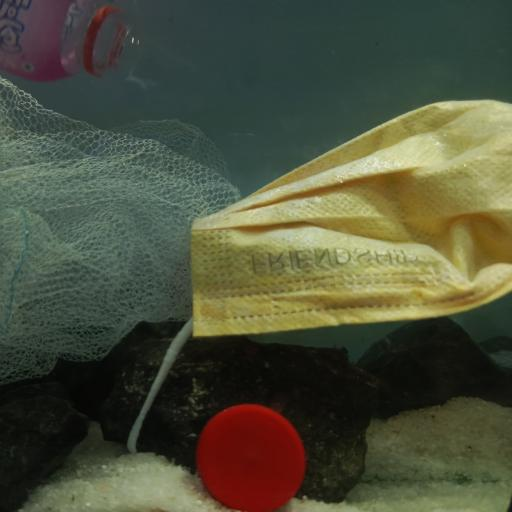bottle_cap: (196, 400, 307, 508)
mask: (125, 98, 512, 436)
net: (0, 76, 251, 382)
plastic_bottle: (1, 0, 144, 92)
